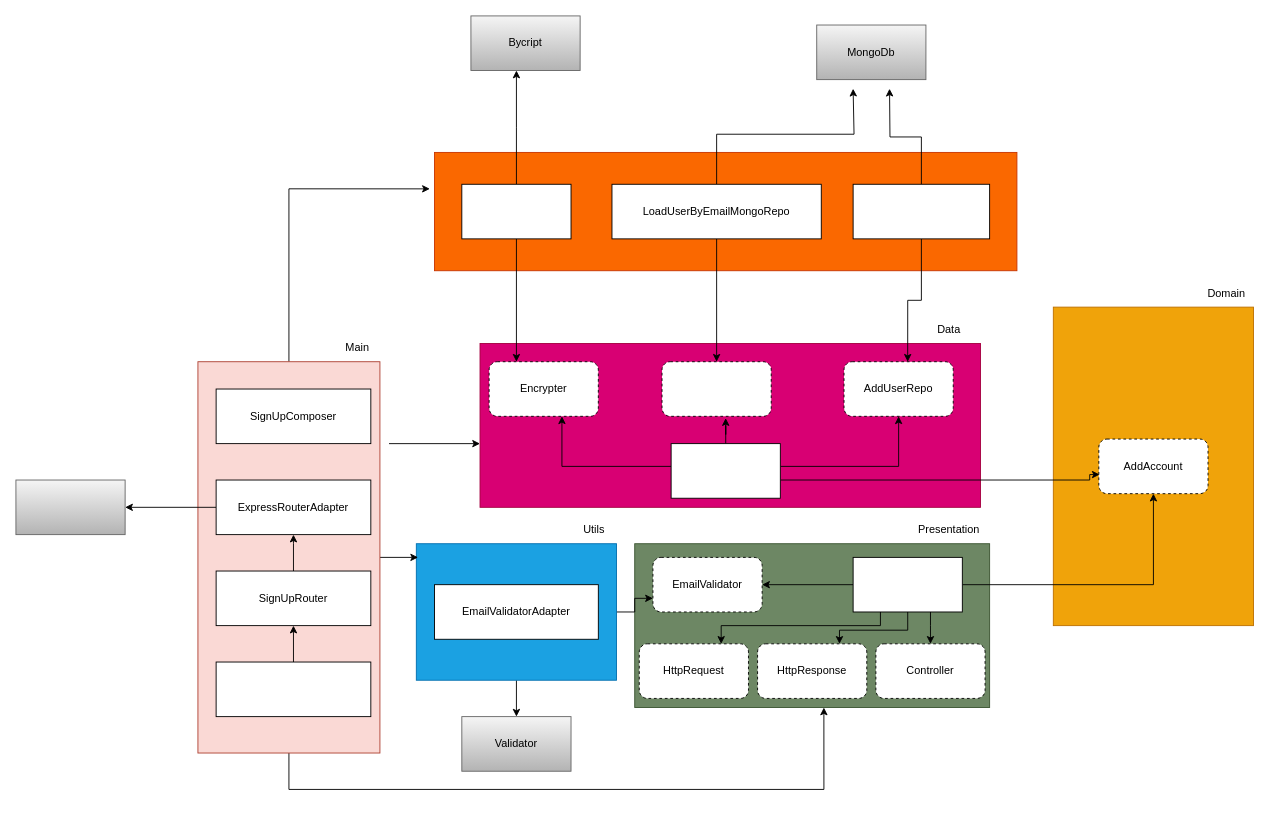
The diagram is 1269 pixels wide and 813 high, and some of its shapes have lost their labels. The centre of each missing label's shape, as x and y in pixels:
AddUserMongoRepo: (x=921, y=211)
App: (x=293, y=689)
BycryptAdapter: (x=516, y=211)
DbAddAccount: (x=725, y=470)
Express: (x=70, y=507)
LoadUserEmailRepo: (x=716, y=388)
SignUpController: (x=907, y=584)
